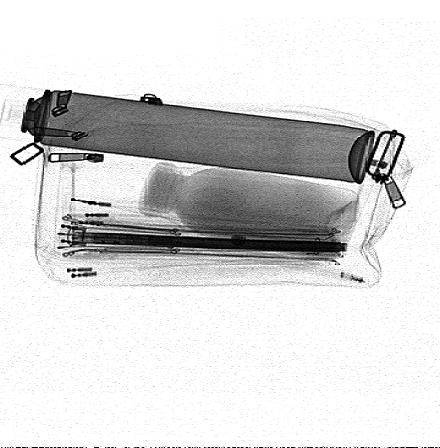Sprayer: (0, 84, 375, 184)
